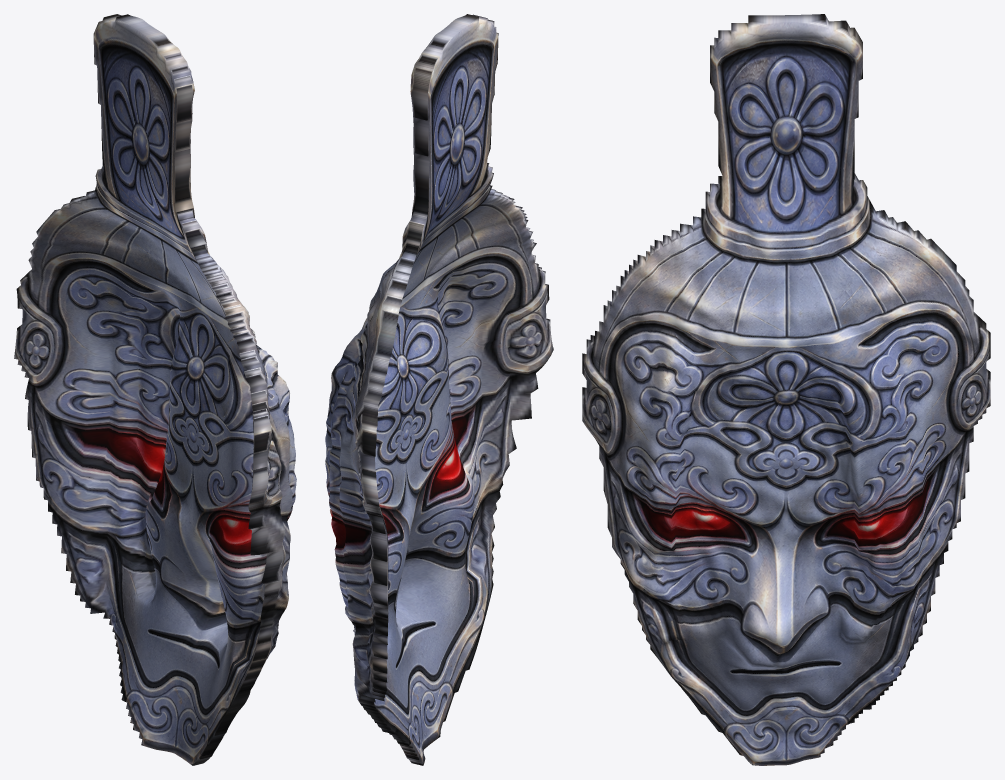
File: side_karasu_portrait_ceremonial_mask.glb
The picture shows the model from 3 angles, left to right: view 1: azimuth 30°, elevation 25°; view 2: azimuth 150°, elevation 25°; view 3: azimuth 270°, elevation 25°; orthographic projection.
Parts seen in each view (by area): view 1: geometry_0; view 2: geometry_0; view 3: geometry_0.
Boxes of the visible parts, left/top/right/bottom form: geometry_0: left=14, top=14, right=296, bottom=765; geometry_0: left=325, top=14, right=553, bottom=765; geometry_0: left=582, top=14, right=990, bottom=765.
Size of the model in its own units: 3.53 by 19.99 by 10.19.
Materials: 1 (1 with a texture image).
